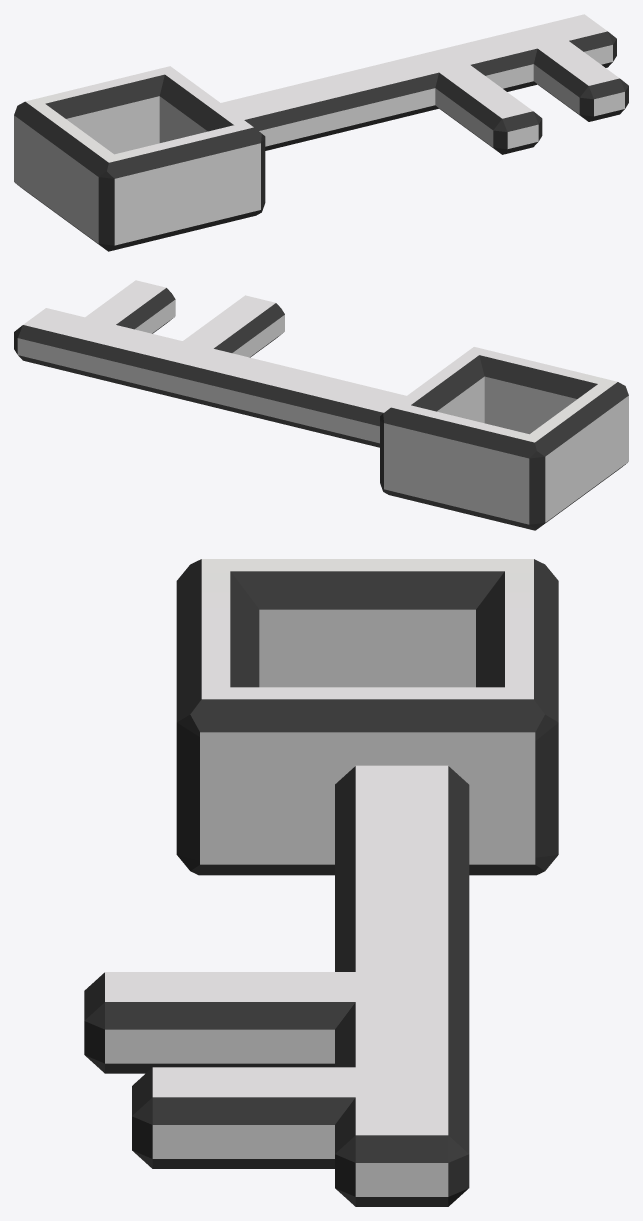
File: Key.fbx
The picture shows the model from 3 angles, top to bottom: view 1: azimuth 30°, elevation 25°; view 2: azimuth 150°, elevation 25°; view 3: azimuth 270°, elevation 25°; orthographic projection. The views are drawn at different scales.
Visible parts, largest first — view 1: Cube; view 2: Cube; view 3: Cube.
Boxes of the visible parts, x1=… form: Cube: x1=14, y1=14, x2=628, y2=251; Cube: x1=14, y1=280, x2=628, y2=530; Cube: x1=84, y1=559, x2=558, y2=1206.
Bounding box in the file's own units: 4.48 × 0.676 × 1.66.
